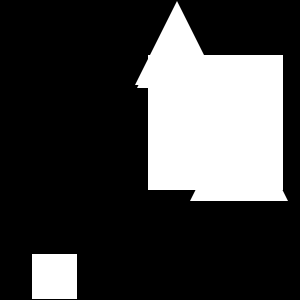circle: (148, 55, 283, 190), (32, 254, 77, 299)
triangle: (190, 103, 288, 201), (135, 1, 219, 85), (137, 20, 205, 88)
